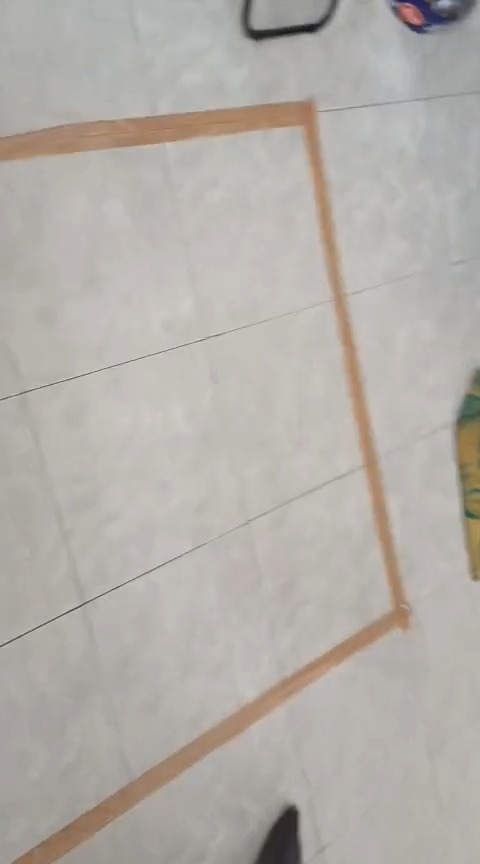floor marking: (0, 102, 410, 863)
